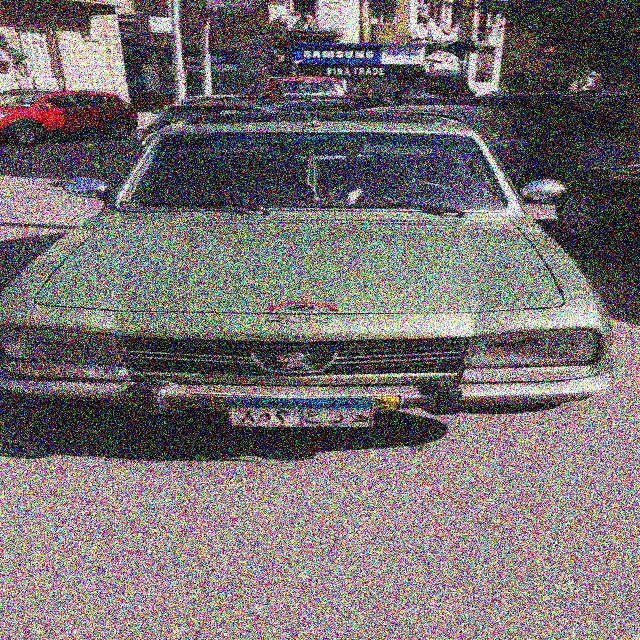License Plate: (225, 394, 377, 429)
